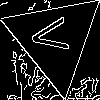V: (30, 14, 79, 56)
